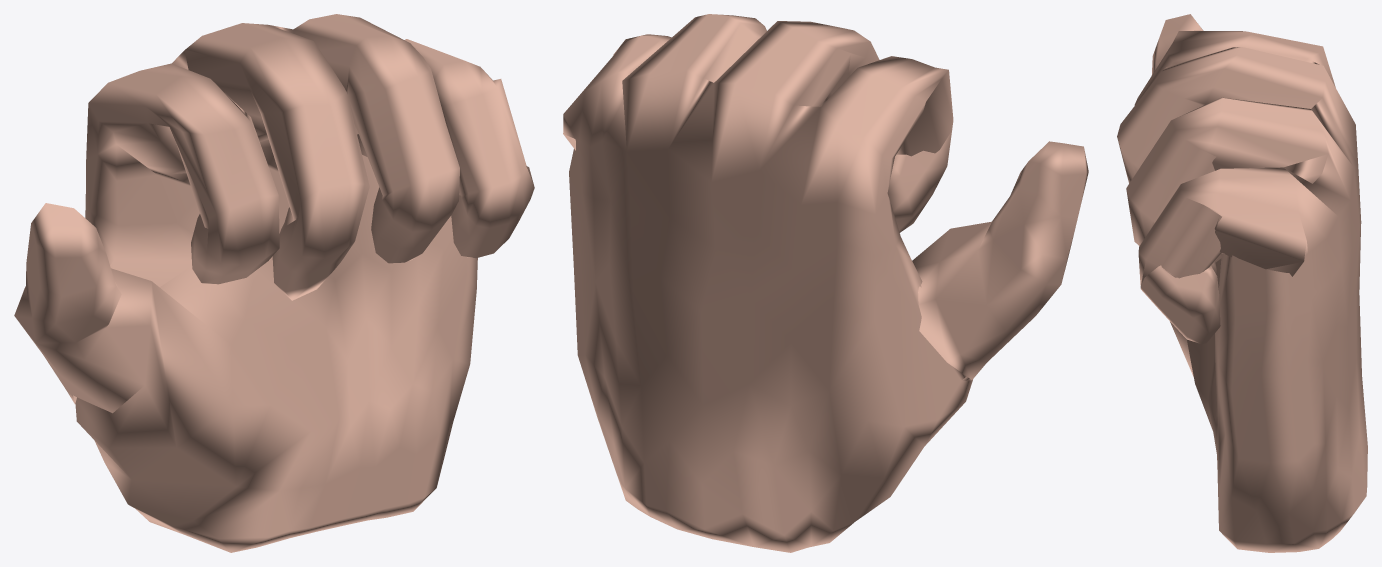
File: MAO_ONZE_APERTA.obj
3 renders of one model, left to right at view 1: azimuth 30°, elevation 25°; view 2: azimuth 150°, elevation 25°; view 3: azimuth 270°, elevation 25°, orthographic. The views are drawn at different scales.
Parts seen in each view (by area): view 1: mao_dir polySurface1; view 2: mao_dir polySurface1; view 3: mao_dir polySurface1.
Boxes of the visible parts, x1,y1,x2,y2 form: mao_dir polySurface1: [14, 14, 534, 552]; mao_dir polySurface1: [563, 14, 1088, 552]; mao_dir polySurface1: [1117, 14, 1367, 552].
Size of the model in its own units: 157 by 155 by 80.27.
